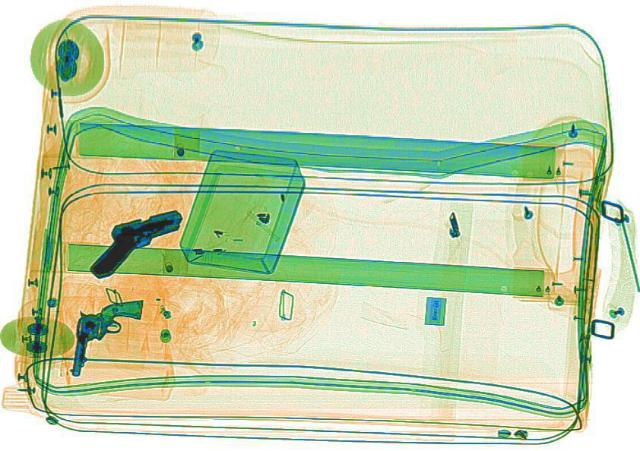Gun: (68, 197, 190, 282), (65, 295, 143, 376)
